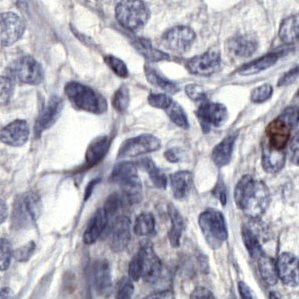Lymphocyte: (265, 117, 291, 152)
